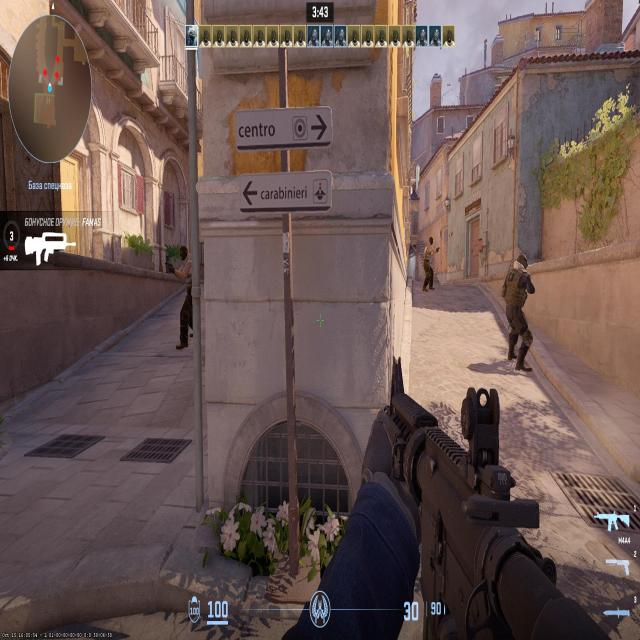CT: (511, 255, 526, 365)
CT_heat: (518, 256, 525, 268)
T: (178, 244, 192, 344), (427, 238, 434, 294)
T_heat: (179, 247, 186, 263), (429, 240, 433, 247)
